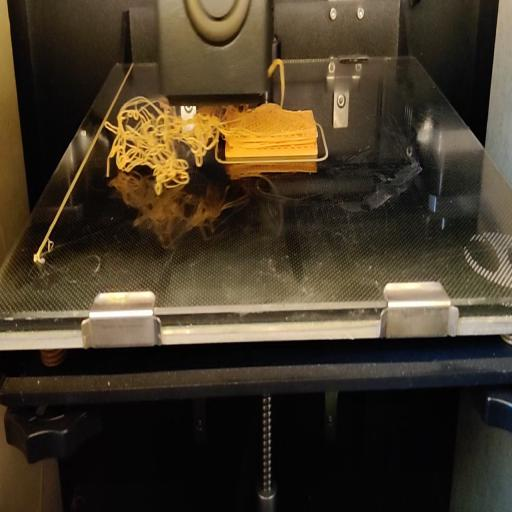spaghetti: (102, 96, 173, 191), (172, 106, 216, 190)
